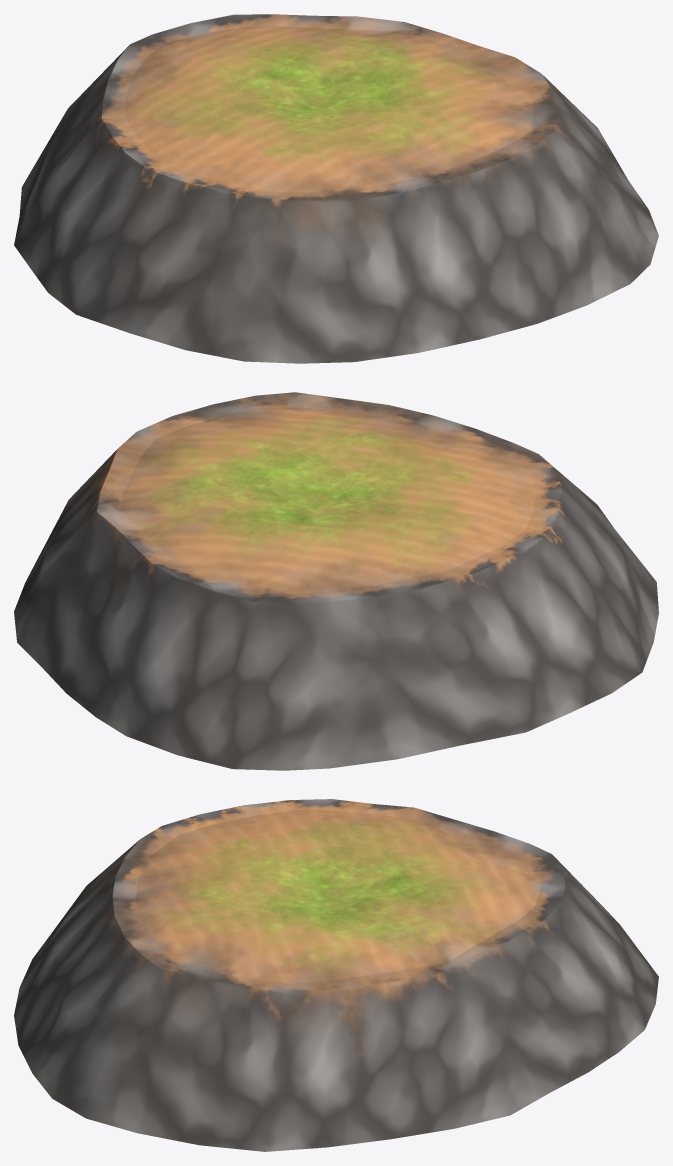
Rendered from low_poly_island_2.glb.
3 views of the same model, one above another, from view 1: azimuth 30°, elevation 25°; view 2: azimuth 150°, elevation 25°; view 3: azimuth 270°, elevation 25° (orthographic). The views are drawn at different scales.
Visible parts, largest first — view 1: Island 2; view 2: Island 2; view 3: Island 2.
Part boxes in pixels (<box>): Island 2: <box>14,14,658,363</box>; Island 2: <box>14,392,658,770</box>; Island 2: <box>14,799,658,1151</box>.
Bounding box in the file's own units: 1127 × 258 × 1134.
1 material, 1 textured.
